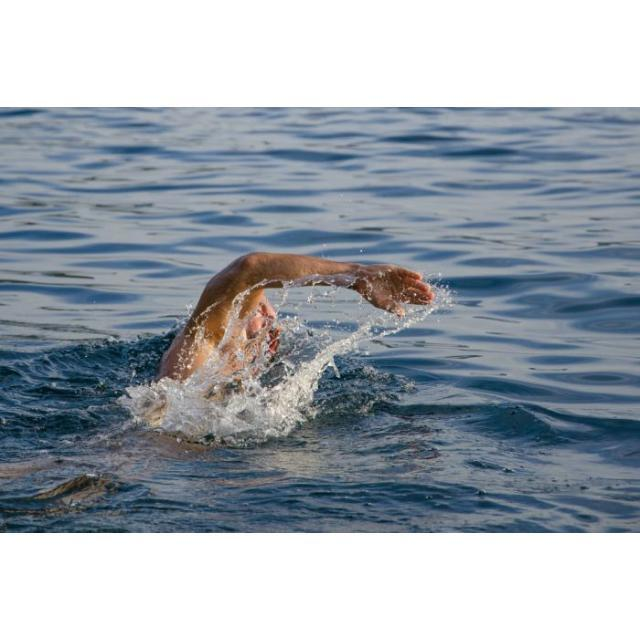human: (159, 250, 434, 401)
